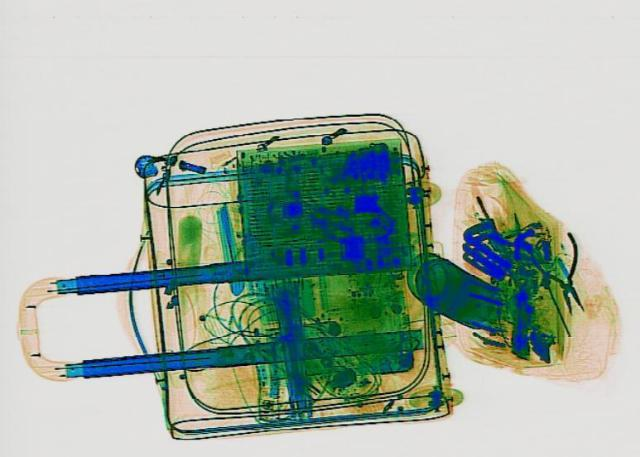Pliers: (520, 229, 606, 315)
